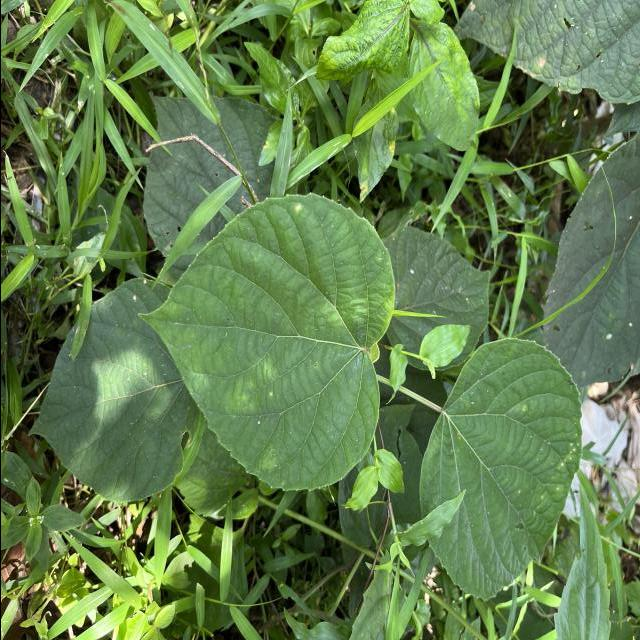Clerodendrum infortunatum: (134, 189, 396, 494), (416, 334, 584, 602), (24, 276, 192, 504)
